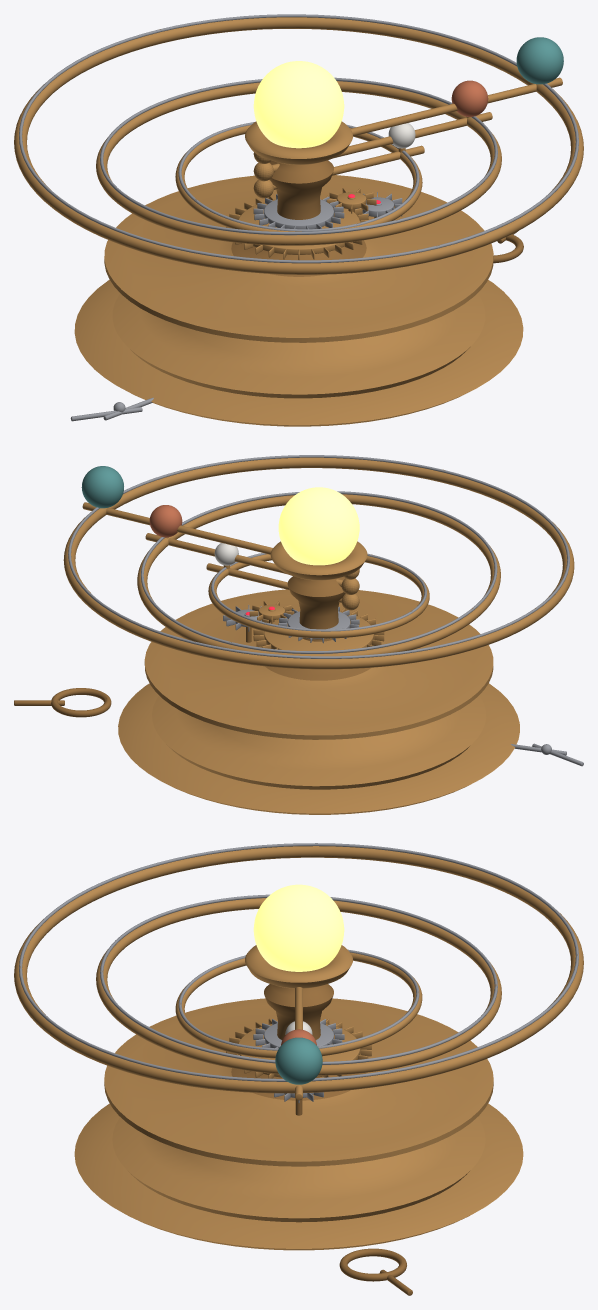
3 views of the same model, one above another, from view 1: azimuth 30°, elevation 25°; view 2: azimuth 150°, elevation 25°; view 3: azimuth 270°, elevation 25° (orthographic). The views are drawn at different scales.
Parts seen in each view (by area): view 1: base, ring_2, ring_1, sun, column, ring_0, cup, gear_0, planet_2, gear_1, arm_2, arm_1 (+6 smaller); view 2: base, ring_2, ring_1, sun, ring_0, column, gear_0, cup, planet_2, arm_2, prop_lens, arm_1 (+5 smaller); view 3: base, ring_2, ring_1, sun, ring_0, column, cup, planet_2, gear_0, prop_lens, gear_1.
Part boxes in pixels (x1,y1,x2,y2): base: (74, 175, 523, 426); ring_2: (14, 14, 583, 274); ring_1: (96, 77, 501, 245); sun: (253, 61, 344, 148); column: (231, 160, 366, 276); ring_0: (175, 122, 422, 231); cup: (245, 121, 352, 164); gear_0: (226, 195, 368, 259); planet_2: (516, 37, 563, 84); gear_1: (253, 194, 344, 229); arm_2: (350, 77, 562, 136); arm_1: (272, 112, 492, 172); base: (118, 589, 519, 814); ring_2: (63, 455, 574, 669); ring_1: (137, 491, 500, 656); sun: (278, 487, 359, 565); ring_0: (208, 553, 429, 638); column: (261, 576, 371, 680); gear_0: (253, 607, 384, 650); cup: (270, 541, 367, 580); planet_2: (81, 466, 123, 508); arm_2: (82, 502, 272, 554); prop_lens: (14, 688, 111, 717); arm_1: (145, 533, 343, 586); base: (74, 998, 523, 1250); ring_2: (14, 843, 583, 1093); ring_1: (96, 894, 501, 1075); sun: (253, 884, 344, 971); ring_0: (175, 949, 422, 1058); column: (231, 984, 366, 1100); cup: (245, 945, 352, 988); planet_2: (275, 1037, 322, 1084); gear_0: (226, 1018, 371, 1078); prop_lens: (339, 1248, 412, 1295); gear_1: (253, 1019, 344, 1048).
Bounding box in the file's own units: 4.67 × 2.2 × 4.21.
